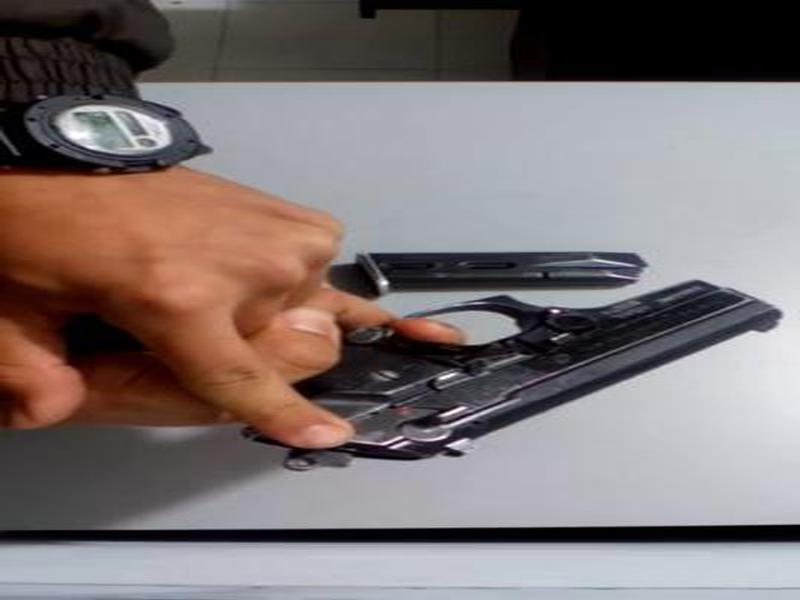Pistola: (247, 258, 790, 490)
